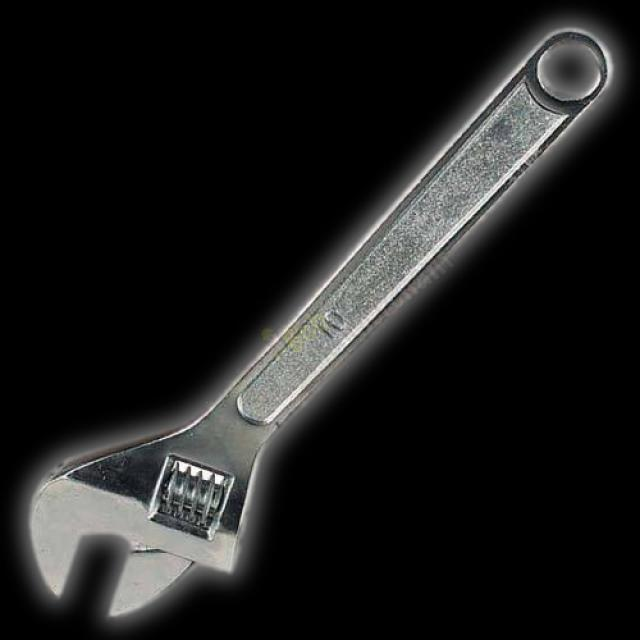wrench: (21, 18, 621, 621)
